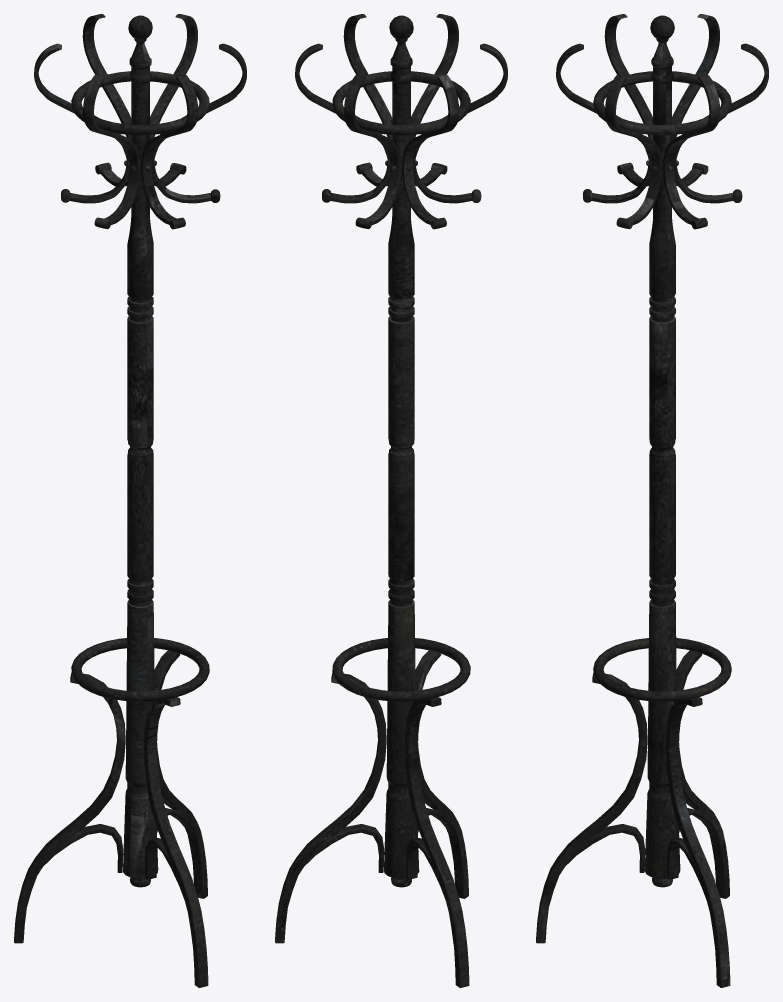
The model's file is SM_Horror_Attic_Coat_Rack.fbx.
The picture shows the model from 3 angles, left to right: view 1: azimuth 30°, elevation 25°; view 2: azimuth 150°, elevation 25°; view 3: azimuth 270°, elevation 25°; orthographic projection.
Parts seen in each view (by area): view 1: SM_Horror_Attic_Coat_Rack; view 2: SM_Horror_Attic_Coat_Rack; view 3: SM_Horror_Attic_Coat_Rack.
Part boxes in pixels (x1,y1,x2,y2): SM_Horror_Attic_Coat_Rack: (14, 14, 246, 987); SM_Horror_Attic_Coat_Rack: (275, 14, 507, 987); SM_Horror_Attic_Coat_Rack: (536, 14, 768, 987).
Size of the model in its own units: 39.18 by 40.78 by 179.
1 material, 1 textured.
